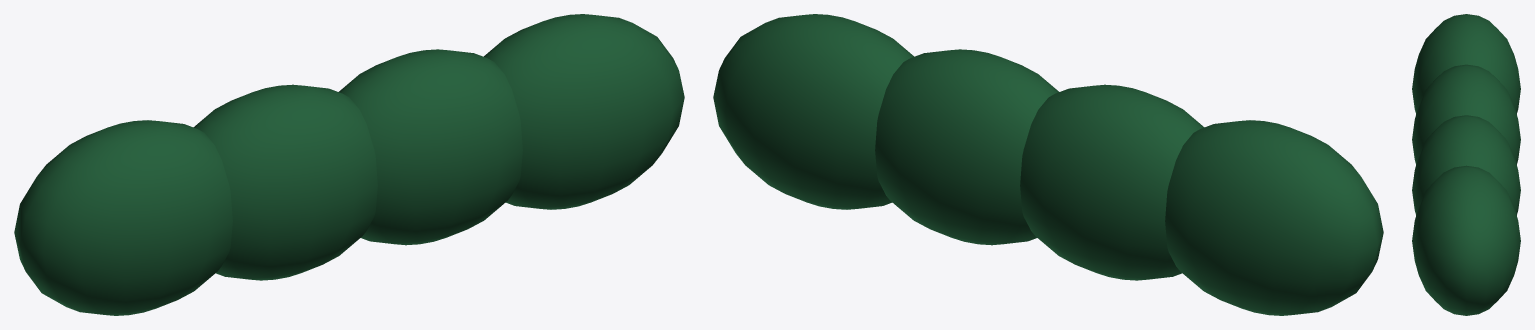
The picture shows the model from 3 angles, left to right: view 1: azimuth 30°, elevation 25°; view 2: azimuth 150°, elevation 25°; view 3: azimuth 270°, elevation 25°; orthographic projection. The views are drawn at different scales.
Parts seen in each view (by area): view 1: hedge-row; view 2: hedge-row; view 3: hedge-row.
Part boxes in pixels (x1,y1,x2,y2): hedge-row: (14, 14, 684, 315); hedge-row: (713, 14, 1383, 315); hedge-row: (1412, 14, 1520, 315).
Size of the model in its own units: 2.27 by 0.595 by 0.455.
